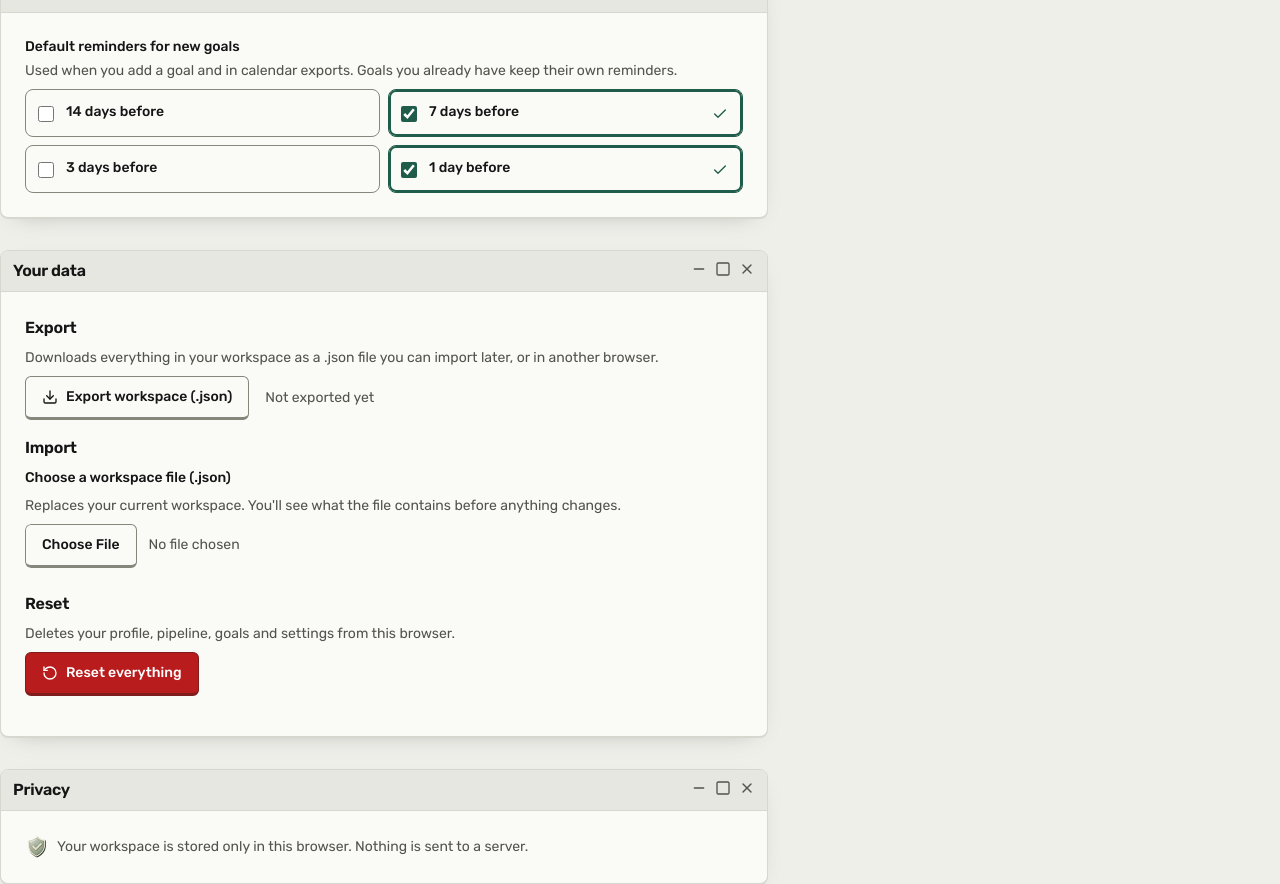
Test case: Settings › resets only after typing "reset"
(page scrolled)
Click the button "Reset everything".
click(112, 674)  # box [25,652,198,696]
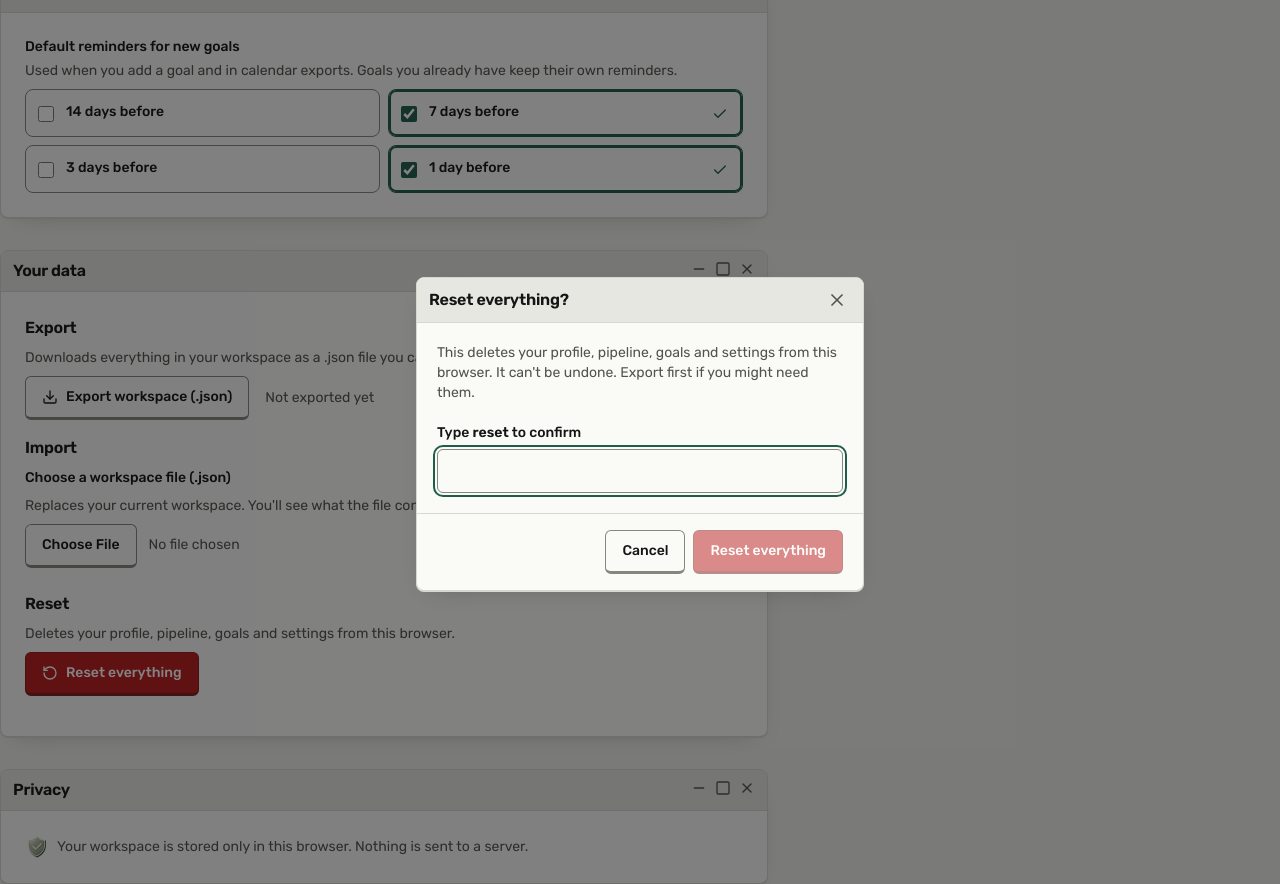
Expected: the button "Reset everything" is disabled, [694,530,843,574]
Type "rese" into the field labelled "Type reset to confirm".
click(640, 471); type("rese")  # box [437,449,843,493]
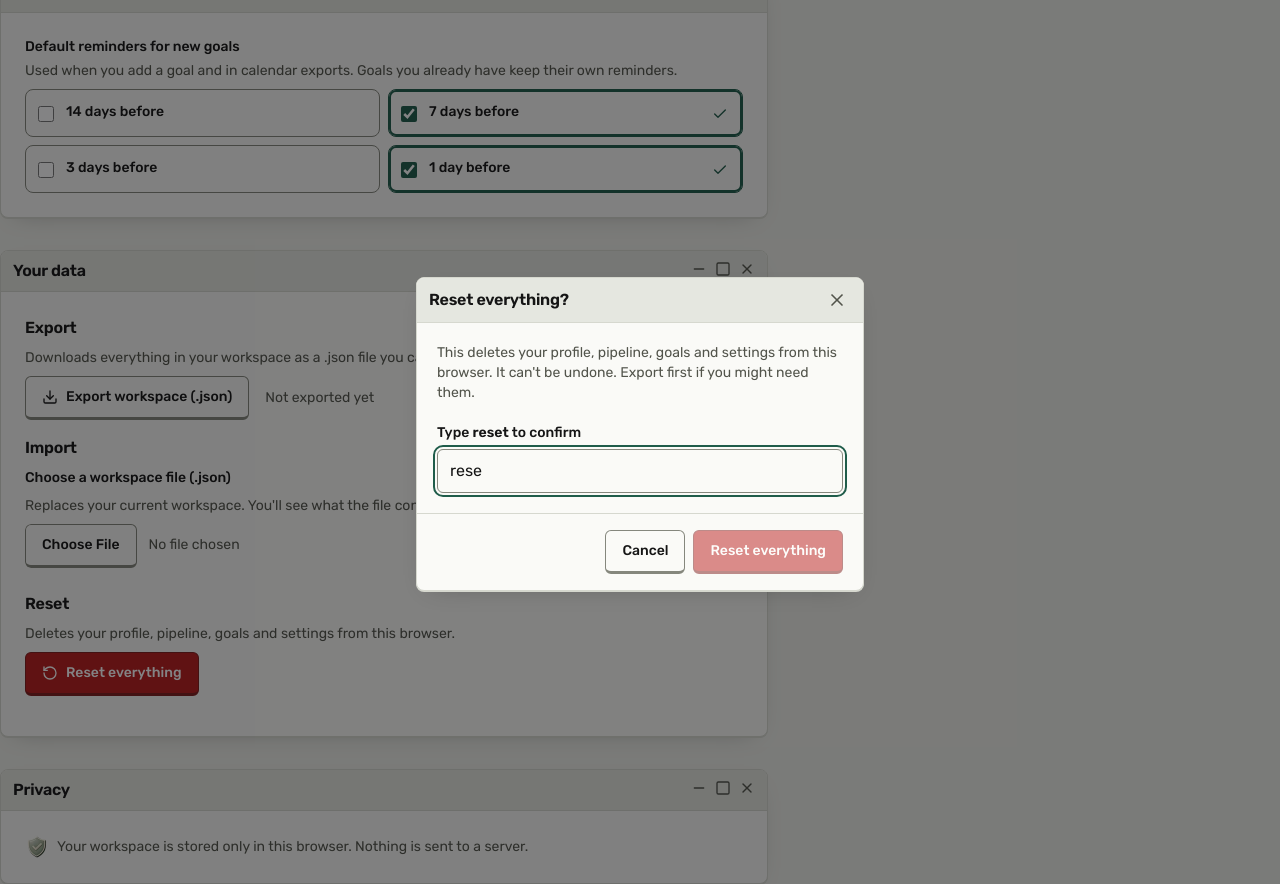
Expected: the button "Reset everything" is disabled, [694,530,843,574]
Type "t" into the field labelled "Type reset to confirm".
click(640, 471); type("t")  # box [437,449,843,493]
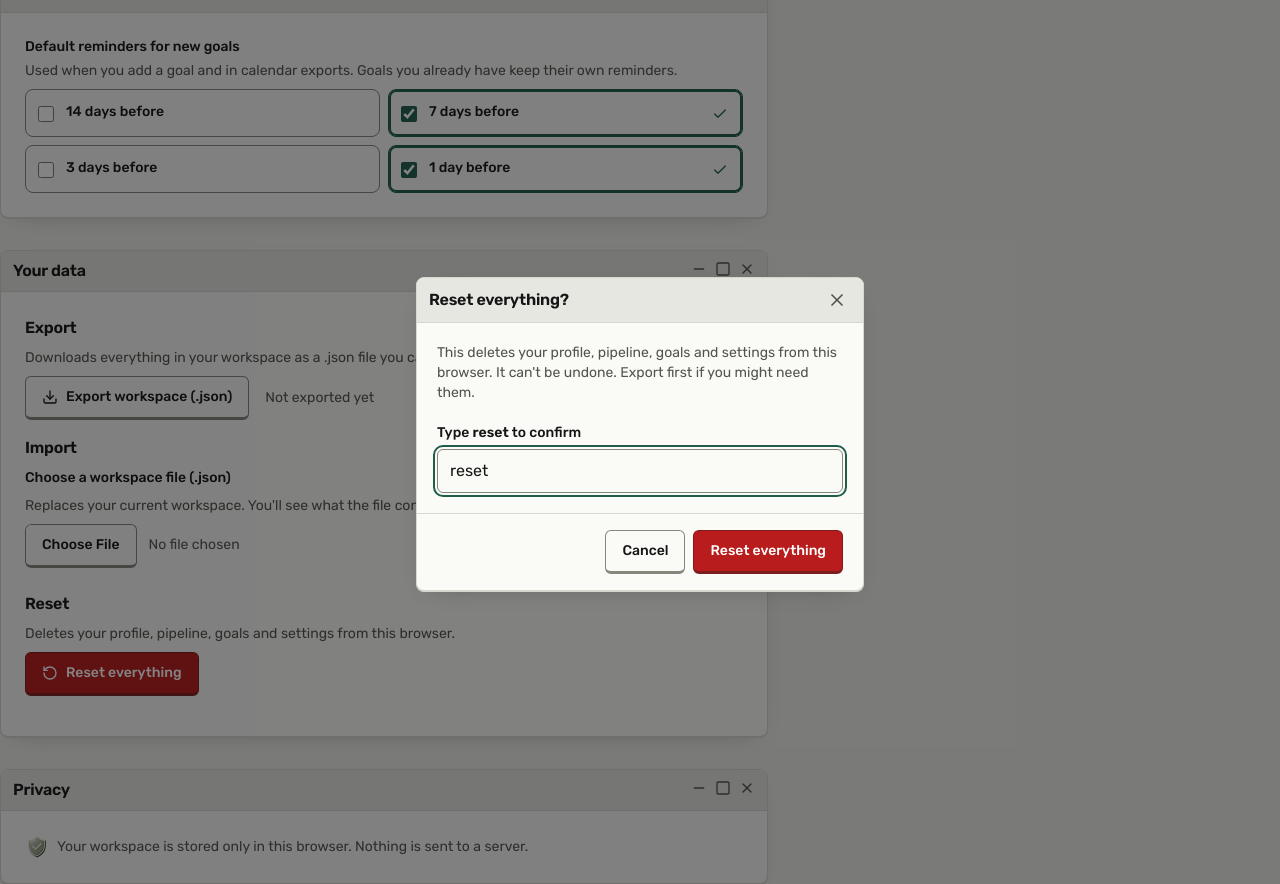
Expected: the button "Reset everything" is enabled
Click the button "Reset everything".
click(768, 552)  # box [694,530,843,574]
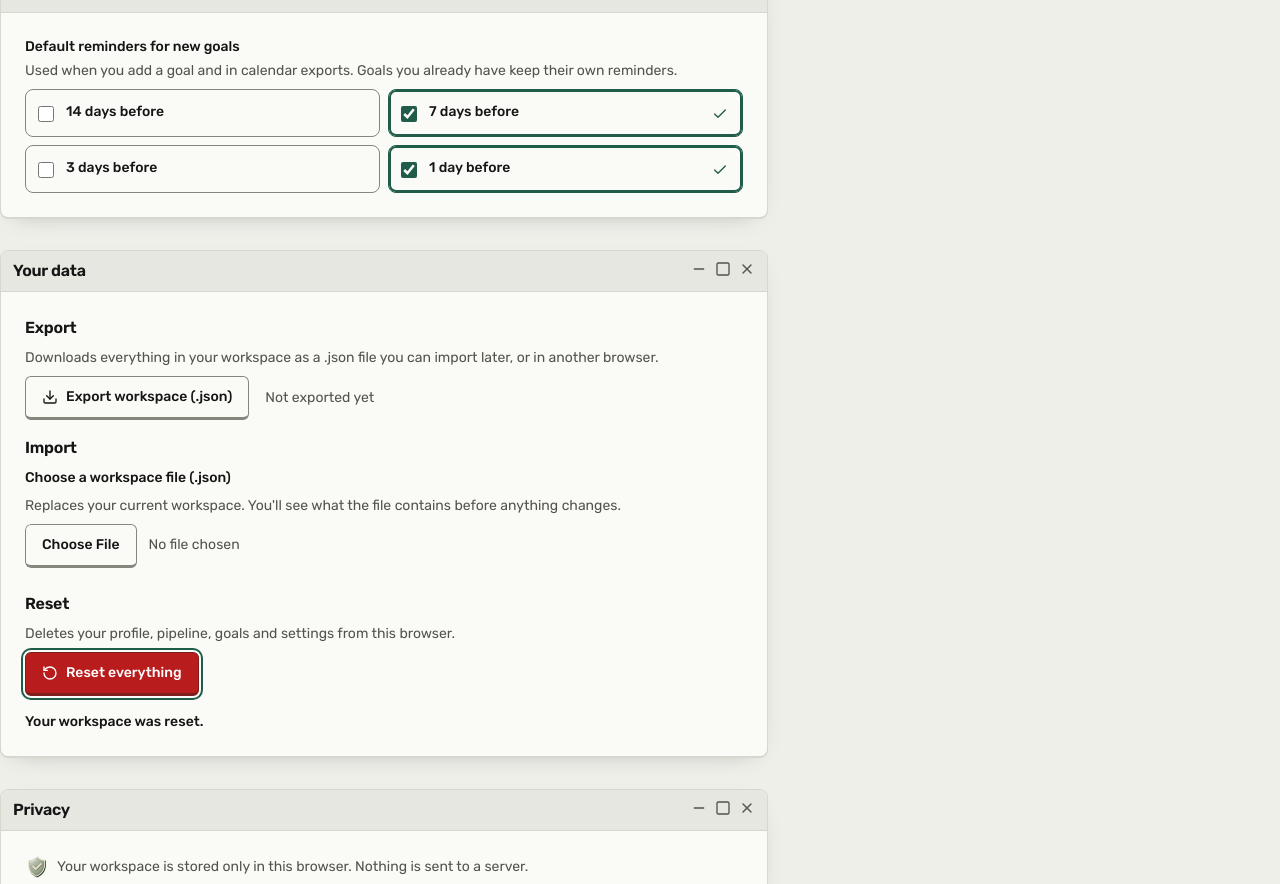
Expected: the dialog is gone
Expected: the message reads "Your workspace was reset.", [25,713,204,730]
